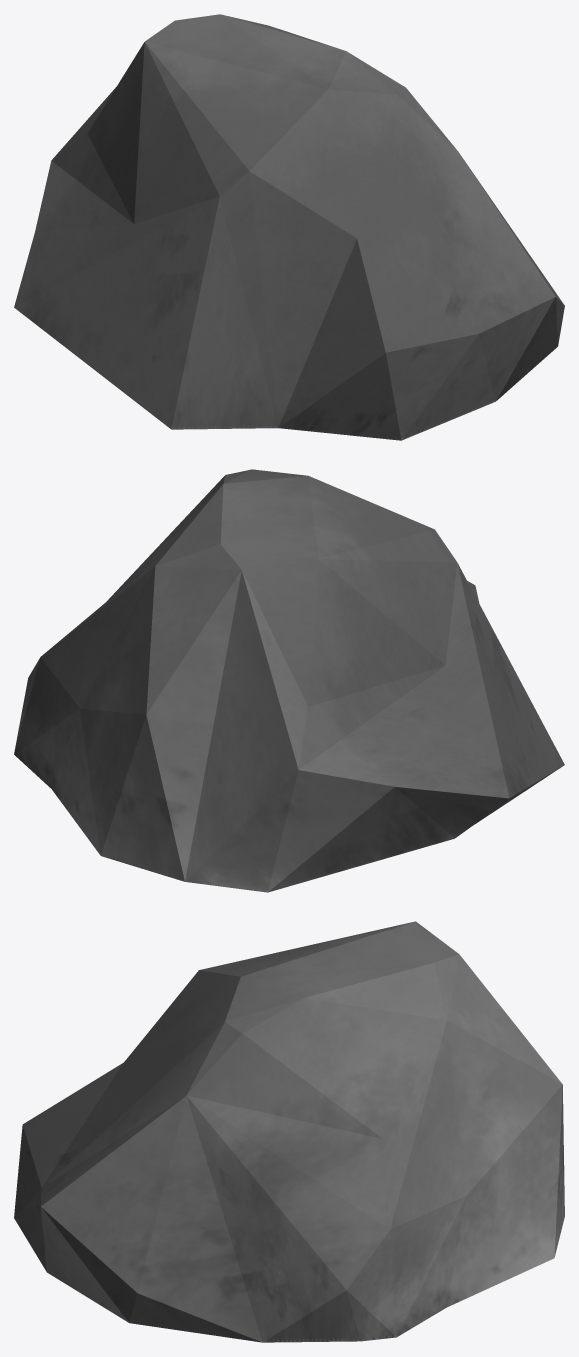
The model's file is M_Stone.fbx.
3 views of the same model, one above another, from view 1: azimuth 30°, elevation 25°; view 2: azimuth 150°, elevation 25°; view 3: azimuth 270°, elevation 25° (orthographic). The views are drawn at different scales.
Visible parts, largest first — view 1: M_Stone; view 2: M_Stone; view 3: M_Stone.
Boxes of the visible parts, x1=… form: M_Stone: x1=14, y1=14, x2=564, y2=440; M_Stone: x1=14, y1=469, x2=564, y2=892; M_Stone: x1=14, y1=921, x2=564, y2=1342.
Size of the model in its own units: 1.63 by 0.8873 by 1.65.
1 material, 1 textured.
